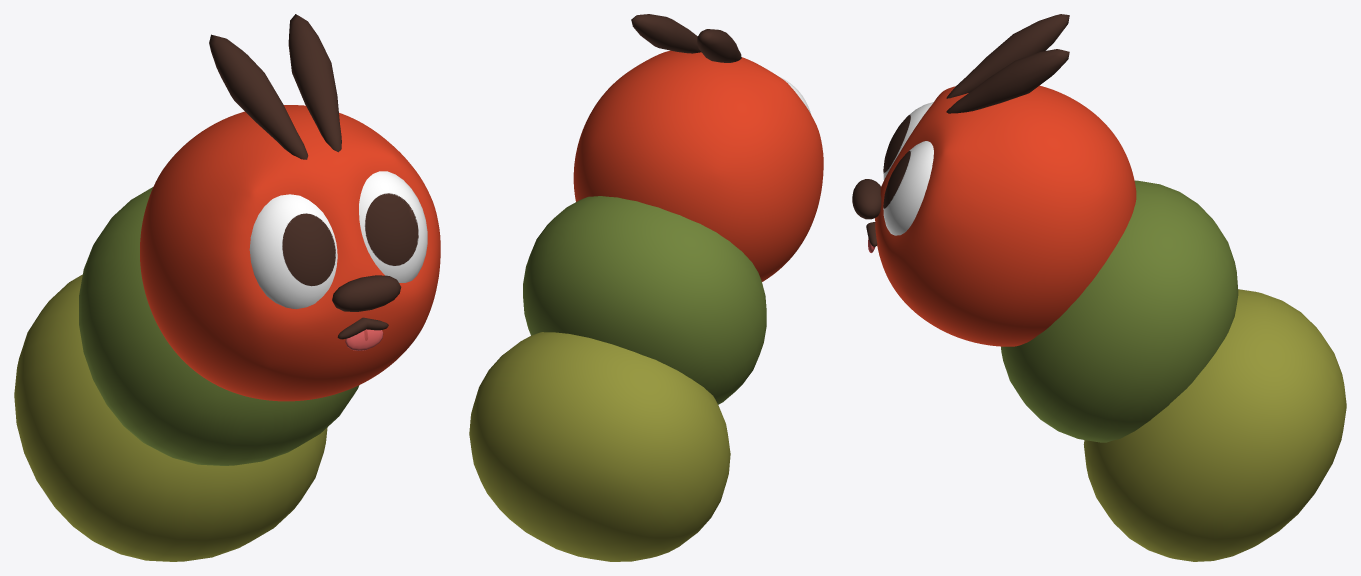
File: footer caterpillar.glb
The picture shows the model from 3 angles, left to right: view 1: azimuth 30°, elevation 25°; view 2: azimuth 150°, elevation 25°; view 3: azimuth 270°, elevation 25°; orthographic projection. The views are drawn at different scales.
Visible parts, largest first — view 1: Cube.024, Cube.029, Cube.028, Sphere.002, Cube.026, Cube.025, Cube.030, Cube.027; view 2: Cube.029, Cube.024, Cube.028, Cube.026; view 3: Cube.024, Cube.029, Cube.028, Cube.026, Sphere.002, Cube.025.
Boxes of the visible parts, x1,y1,x2,y2 form: Cube.024: (140,105,440,401); Cube.029: (14,274,327,561); Cube.028: (79,187,359,465); Sphere.002: (249,171,427,309); Cube.026: (209,14,341,159); Cube.025: (332,275,401,311); Cube.030: (345,329,383,350); Cube.027: (337,317,388,339); Cube.029: (469,332,730,561); Cube.024: (573,50,823,281); Cube.028: (523,196,766,404); Cube.026: (631,14,741,62); Cube.024: (875,85,1136,346); Cube.029: (1083,289,1346,561); Cube.028: (1001,180,1238,442); Cube.026: (946,14,1069,113); Sphere.002: (883,102,933,235); Cube.025: (852,179,881,219).
Bounding box in the file's own units: 1.78 × 3.6 × 3.13.
Materials: 6 (2 with a texture image).
